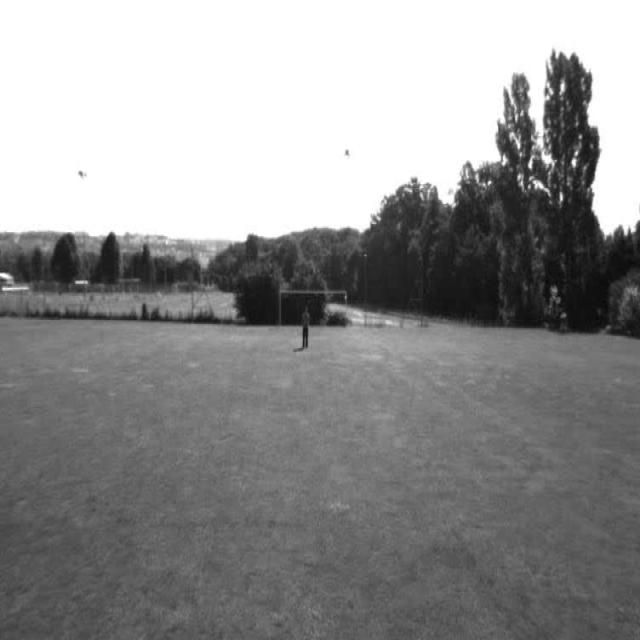drone: (340, 146, 356, 160), (75, 168, 88, 182)
